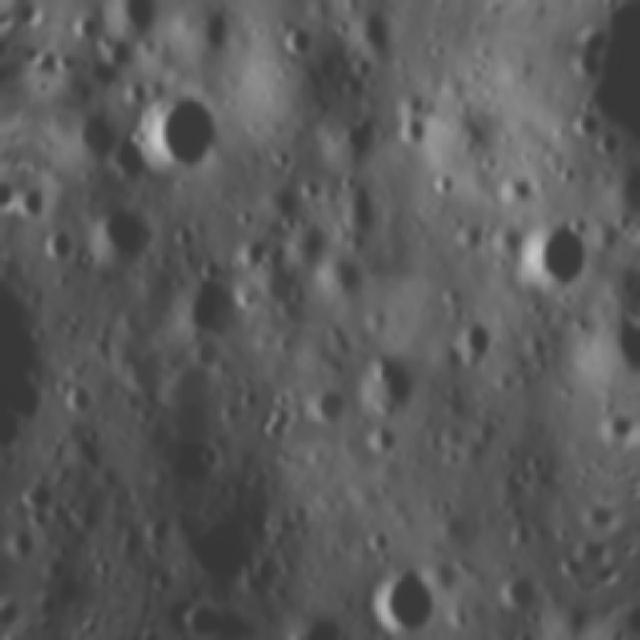crater: (117, 72, 234, 196), (508, 207, 606, 307), (81, 196, 173, 284), (359, 554, 453, 640), (161, 266, 254, 352), (356, 342, 430, 422), (178, 0, 256, 68), (62, 99, 135, 168), (255, 257, 323, 328), (442, 310, 508, 381), (217, 225, 283, 289), (495, 560, 556, 626), (97, 0, 169, 54), (331, 114, 389, 169), (57, 372, 111, 426), (298, 378, 353, 431), (271, 11, 323, 66), (32, 221, 83, 276), (387, 106, 439, 159), (566, 96, 609, 144), (586, 122, 632, 164), (15, 177, 54, 226)
